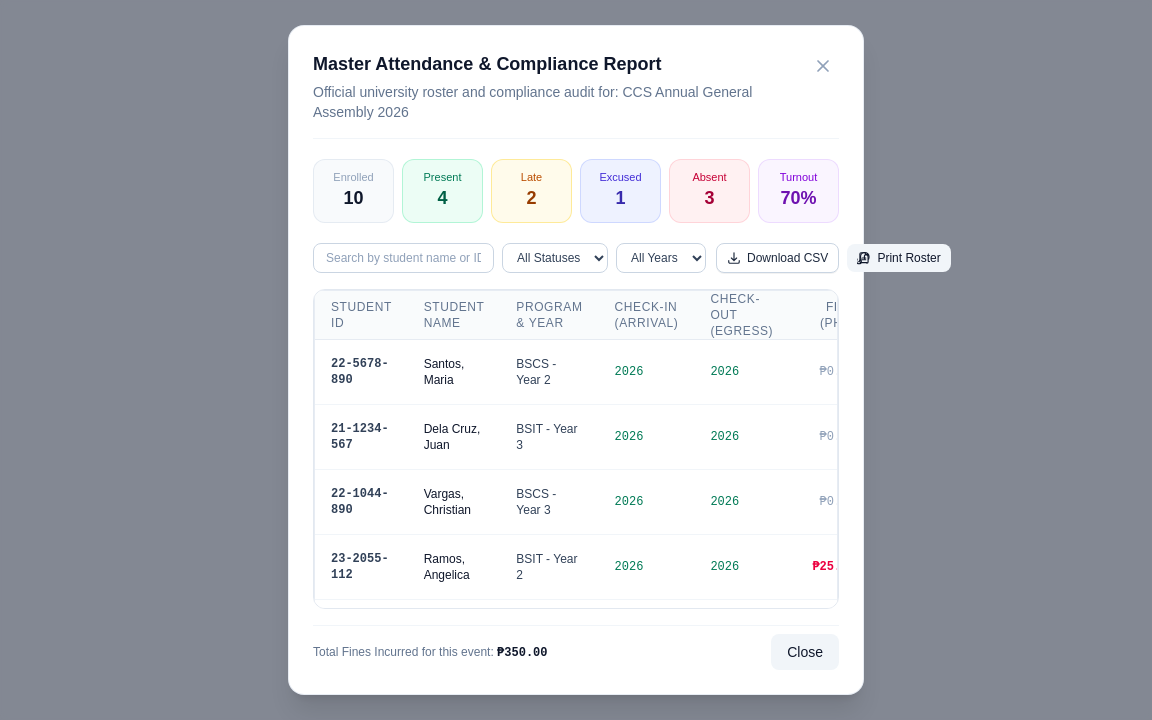
it: MasterReportModal component › filters attendees by search query input
The image size is (1152, 720).
Type "Maria" into the field with placeholder "Search by student name or ID...".
click(404, 258); type("Maria")  # box [313, 243, 494, 273]
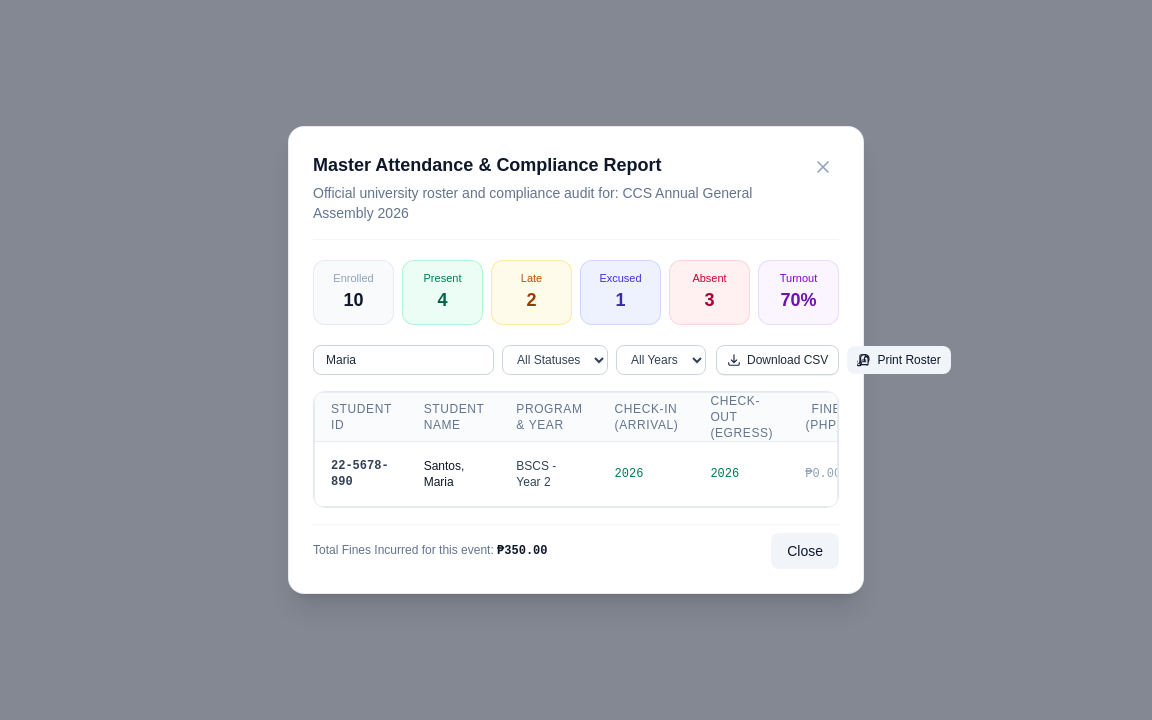
Expected: the text "Santos, Maria" is shown, [408, 441, 500, 506]
Expected: the text "Vargas, Christian" is gone
